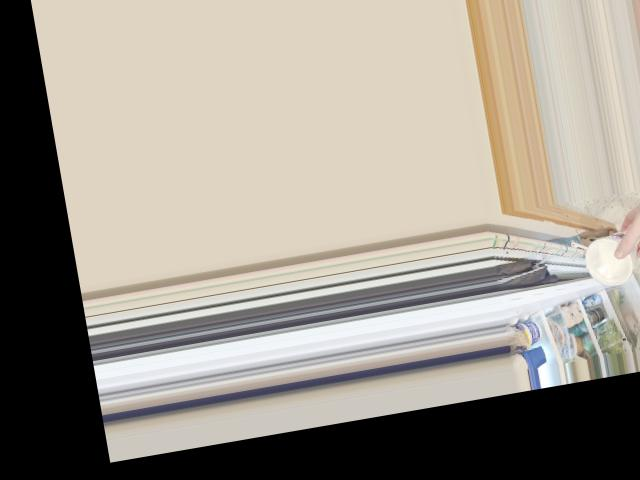cotage: (575, 226, 636, 286)
